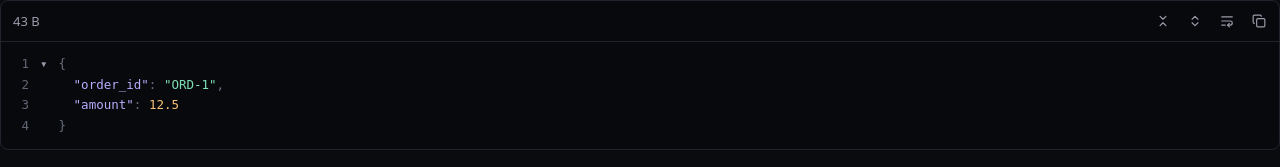
Test: JsonViewer › shows read-only JSON and copies it
Expected: the field named "Payload" shows "\"order_id\": \"ORD-1\"", [58,56,224,133]
Click the button named "Copy JSON": (1259, 21) [1243,5,1275,37]
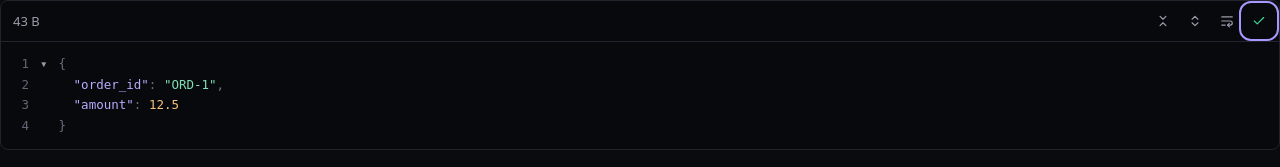
Result: the button named "Copied" is shown at [1243,5,1275,37]
